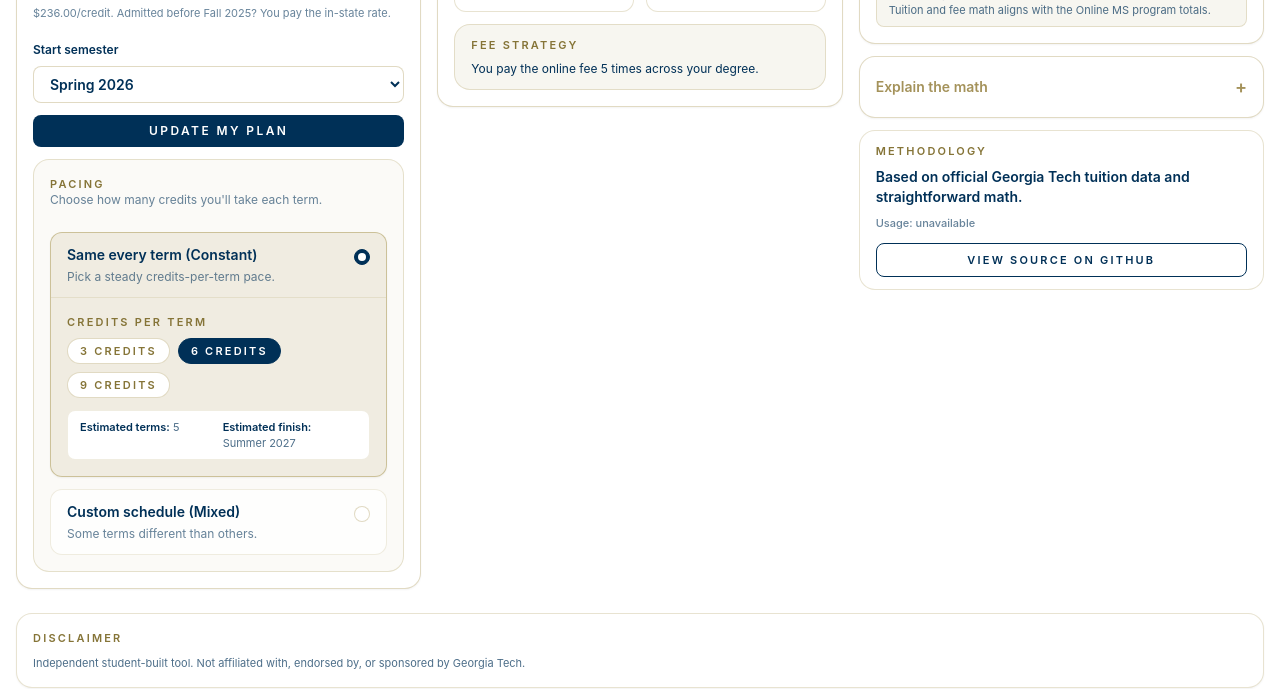
Scenario: App › renders a single calendar timeline when mixed mode is applied
(page scrolled)
Click the radio button labelled "Custom schedule (Mixed) Some terms different than others." at x=219, y=522, box top-left (67, 503), bottom-right (370, 541)
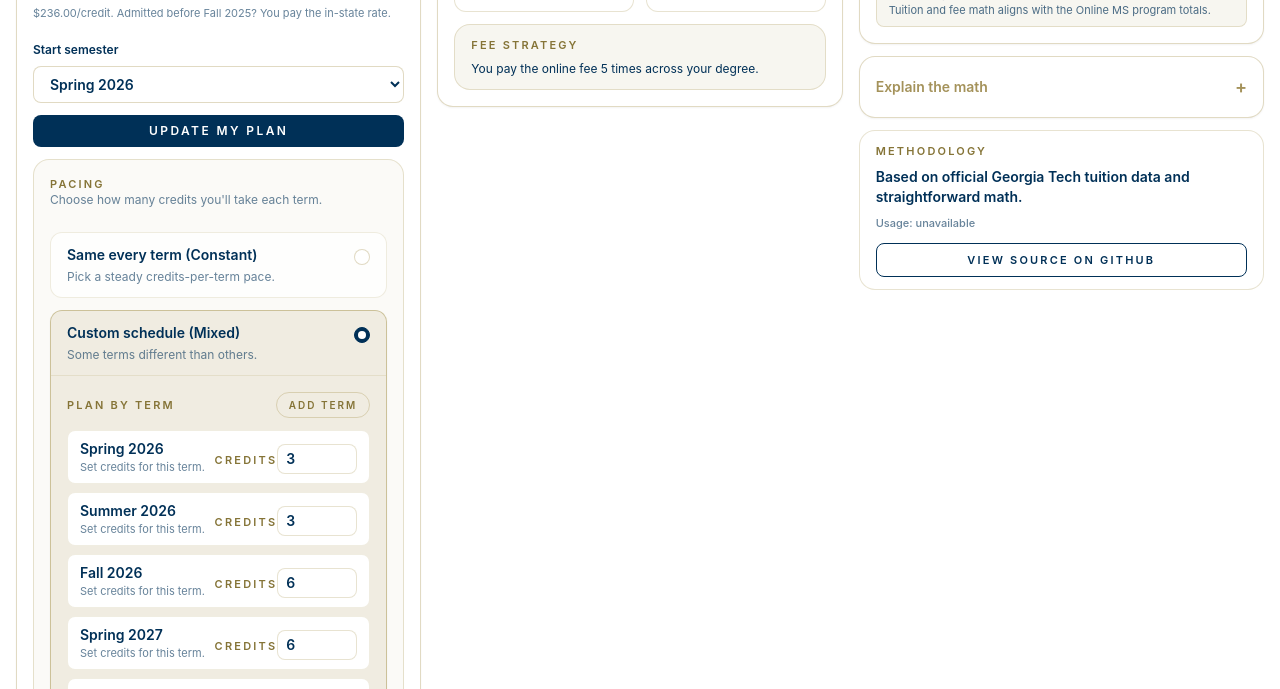
Click the button "Update My Plan" at x=219, y=130, box top-left (33, 114), bottom-right (404, 146)
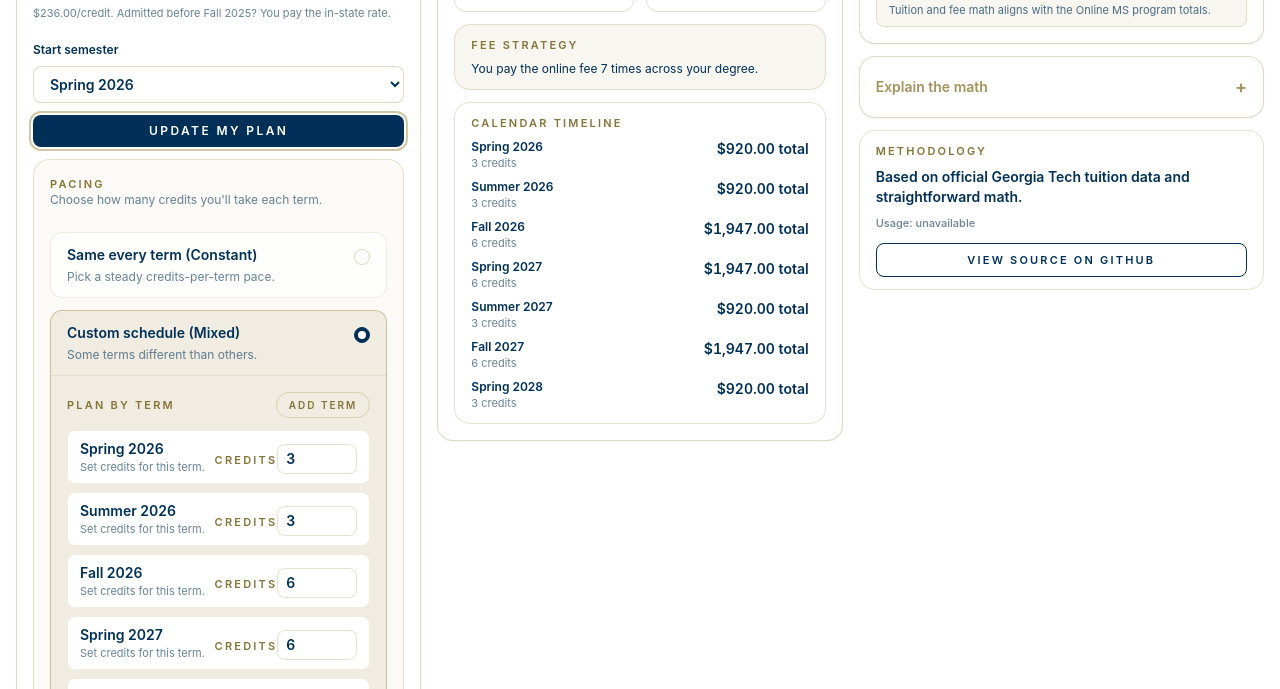
Expected: the text "Calendar timeline" is shown, top-left (471, 116), bottom-right (623, 130)
Expected: the 1st text "3 credits" is shown, top-left (471, 156), bottom-right (517, 170)
